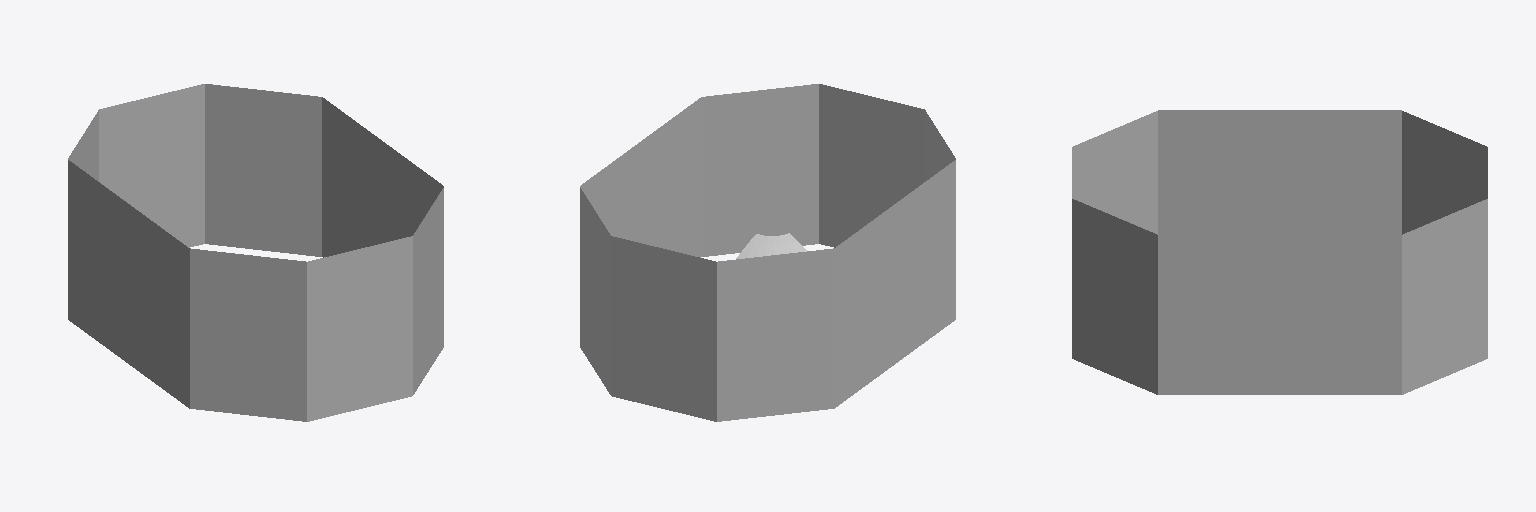
The model's file is map_soccer11n_all.obj.
3 renders of one model, left to right at view 1: azimuth 30°, elevation 25°; view 2: azimuth 150°, elevation 25°; view 3: azimuth 270°, elevation 25°, orthographic.
Visible parts, largest first — view 1: block136, block138, block137; view 2: block138, block136, block135, block134; view 3: block136, block138, block135, block137.
Boxes of the visible parts, x1,y1,x2,y2 form: block136: [129, 142, 443, 421]; block138: [68, 84, 382, 363]; block137: [322, 154, 353, 234]; block138: [580, 142, 894, 421]; block136: [641, 84, 955, 363]; block135: [670, 154, 701, 234]; block134: [736, 233, 806, 258]; block136: [1072, 110, 1279, 394]; block138: [1280, 110, 1487, 394]; block135: [1093, 190, 1132, 223]; block137: [1427, 190, 1466, 223].
Size of the model in its own units: 8315 by 5197 by 11759.